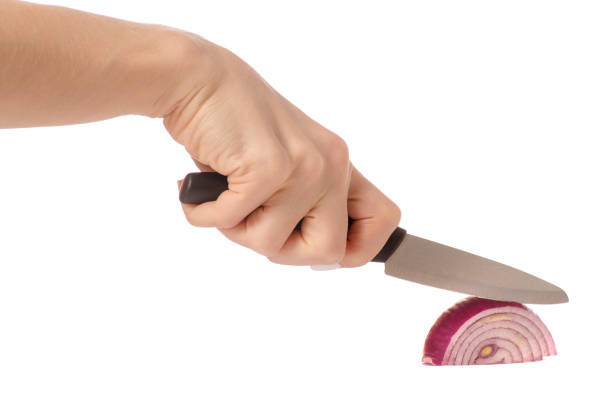knife: (178, 168, 570, 307)
